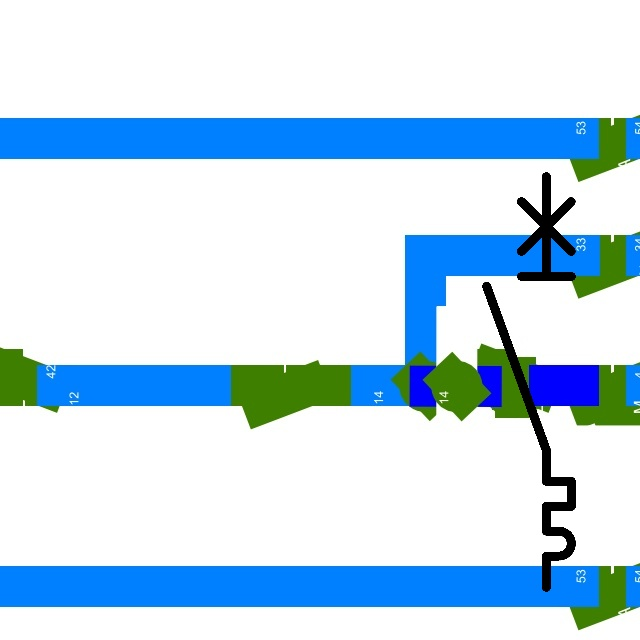interruptor_termomagnetico: (476, 166, 582, 598)
